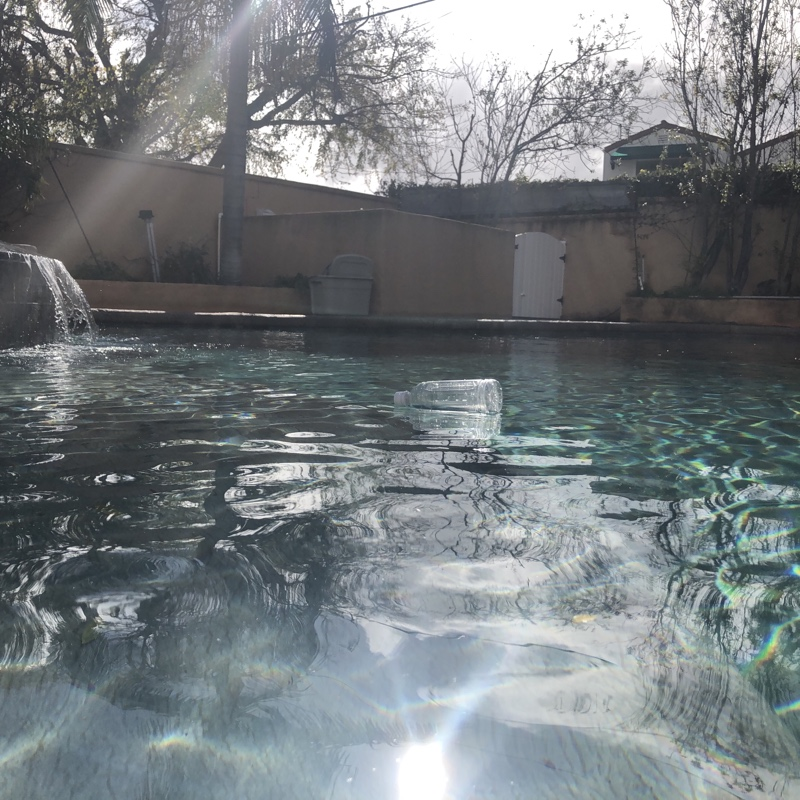Plastic Bottle: (390, 372, 505, 420)
